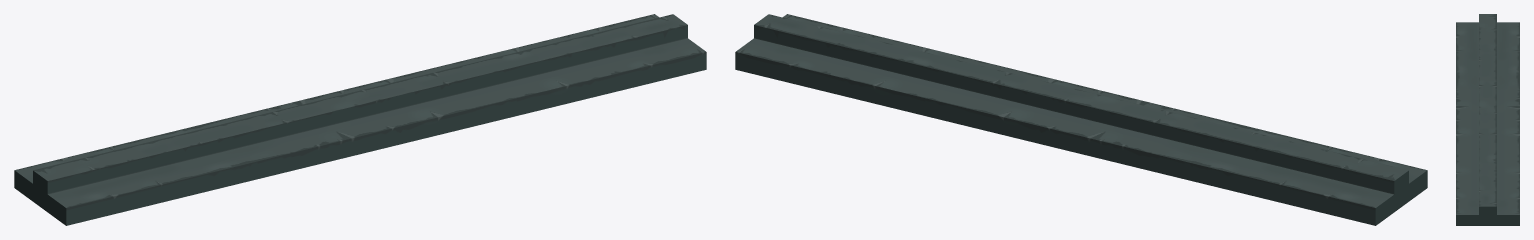
The model's file is Dg_01_rail_002.FBX.
The picture shows the model from 3 angles, left to right: view 1: azimuth 30°, elevation 25°; view 2: azimuth 150°, elevation 25°; view 3: azimuth 270°, elevation 25°; orthographic projection. The views are drawn at different scales.
Visible parts, largest first — view 1: Dg_01_rail_002; view 2: Dg_01_rail_002; view 3: Dg_01_rail_002.
Part boxes in pixels (<box>): Dg_01_rail_002: <box>14,14,706,225</box>; Dg_01_rail_002: <box>735,14,1427,225</box>; Dg_01_rail_002: <box>1456,14,1519,225</box>.
Bounding box in the file's own units: 5 × 0.2334 × 0.7.
